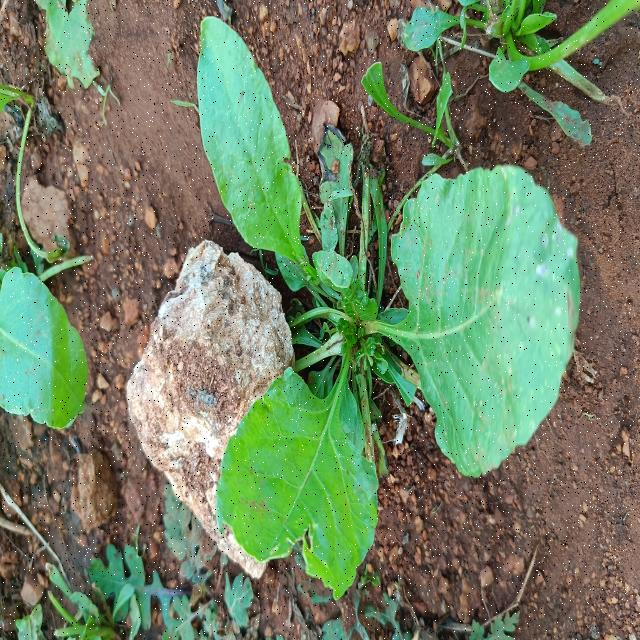leaves: (357, 167, 595, 487), (222, 296, 398, 629), (177, 16, 355, 328), (309, 220, 355, 301)
